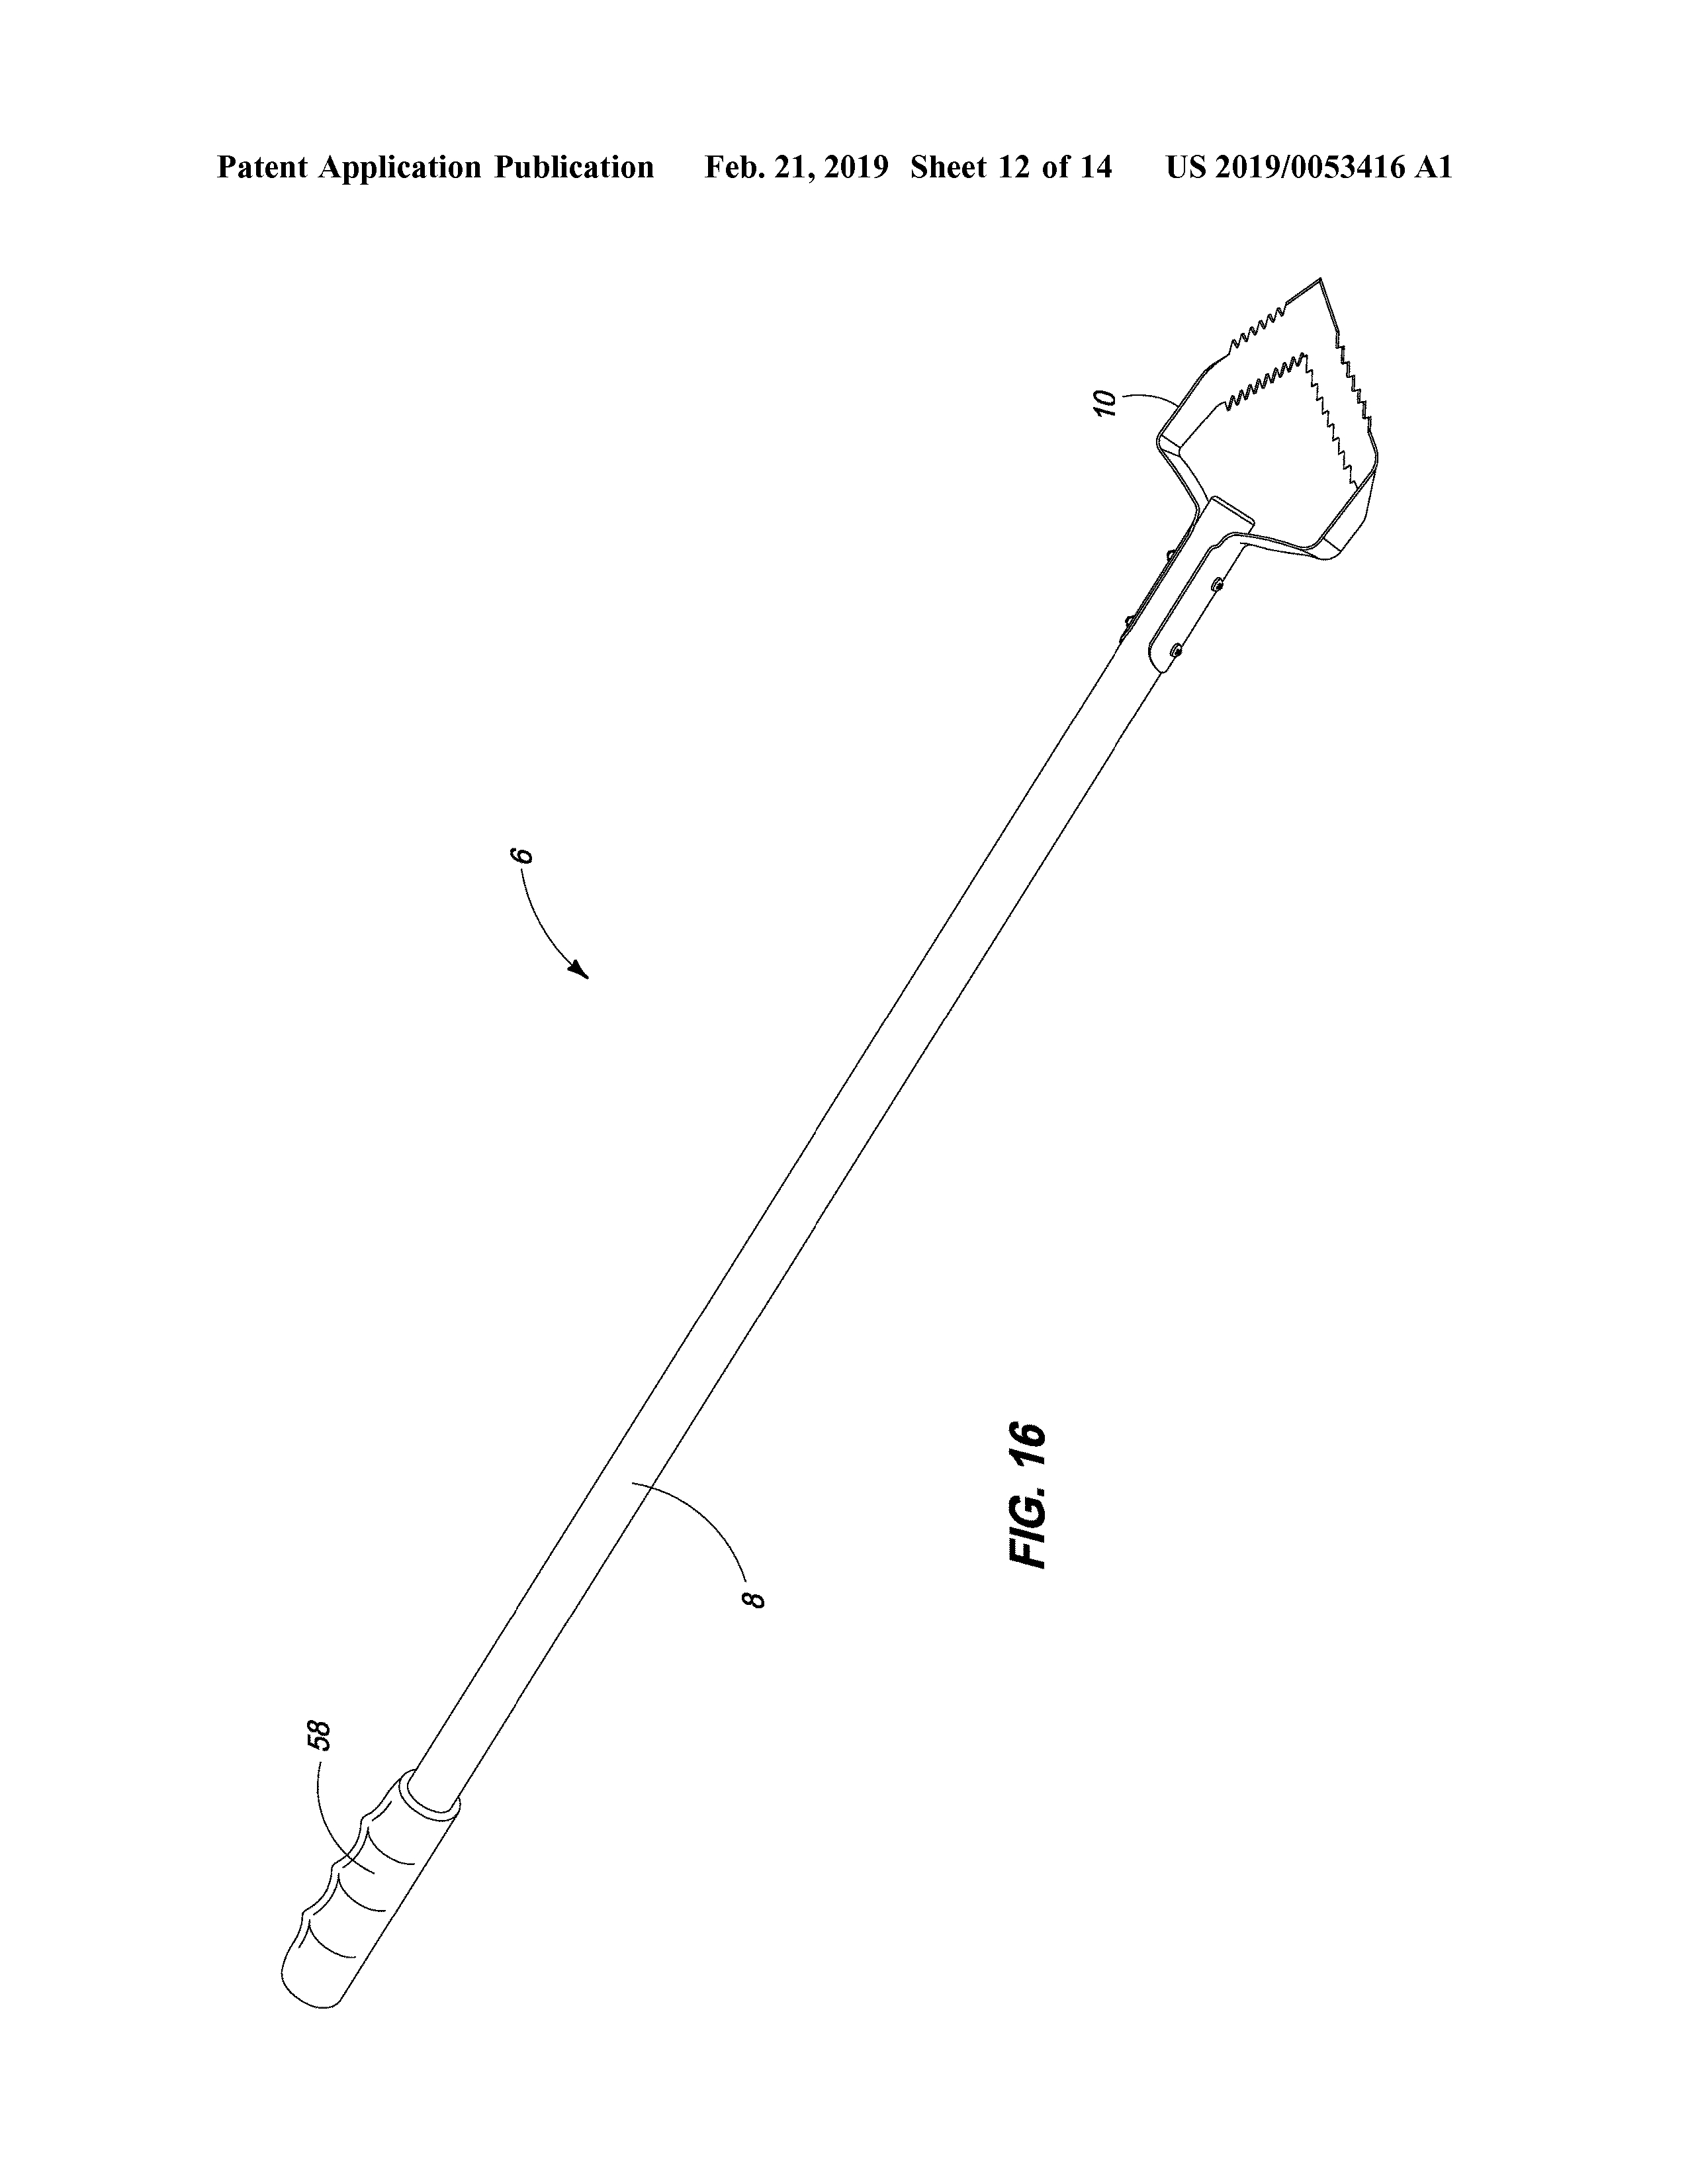10: (1083, 379, 1127, 424)
58: (296, 1712, 340, 1759)
6: (501, 837, 546, 881)
8: (732, 1578, 776, 1622)
FIG. 16: (994, 1358, 1067, 1610)
